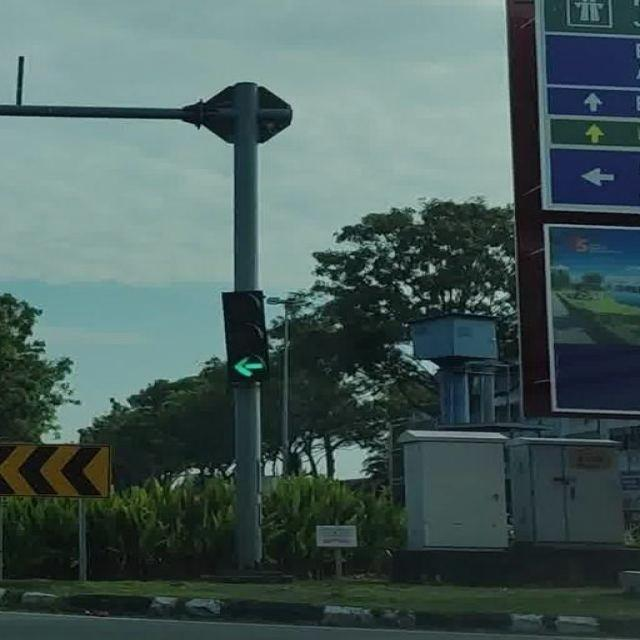Green: (218, 289, 268, 379)
